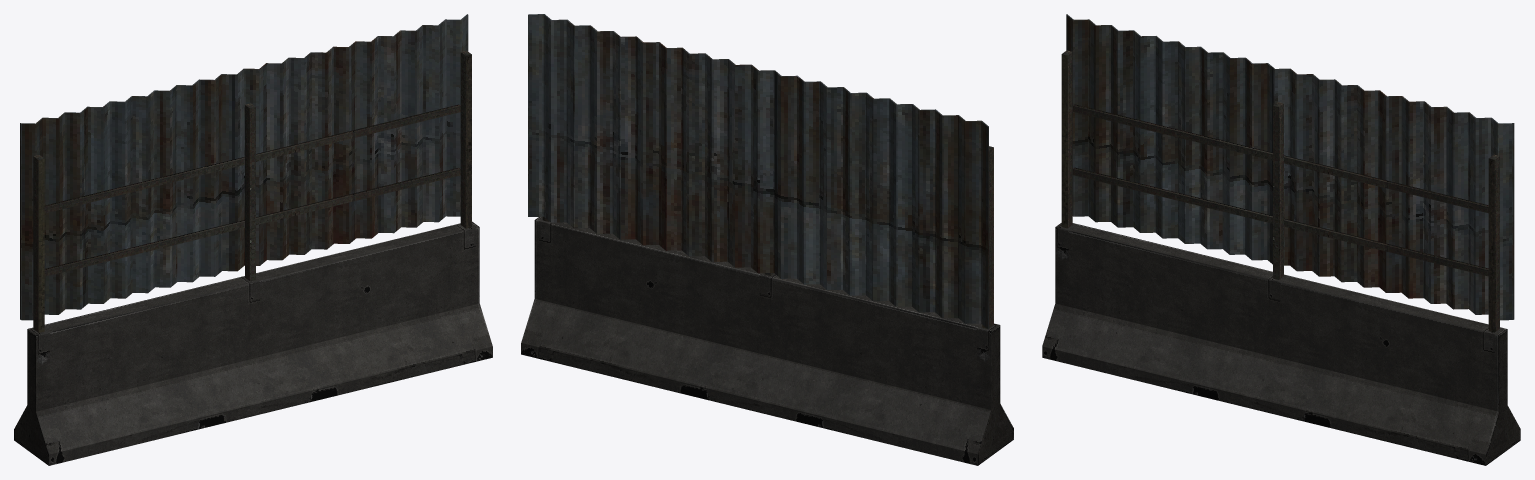
Rendered from barricade_b_4.glb.
3 views of the same model, side by side, from view 1: azimuth 30°, elevation 25°; view 2: azimuth 150°, elevation 25°; view 3: azimuth 330°, elevation 25° (orthographic). The views are drawn at different scales.
Parts seen in each view (by area): view 1: barricade_b_4; view 2: barricade_b_4; view 3: barricade_b_4.
Boxes of the visible parts, bbox=[...] form: barricade_b_4: bbox=[14, 14, 492, 465]; barricade_b_4: bbox=[521, 14, 1013, 465]; barricade_b_4: bbox=[1042, 14, 1520, 465].
Bounding box in the file's own units: 2.96 × 2.05 × 0.4.
3 materials, 3 textured.
